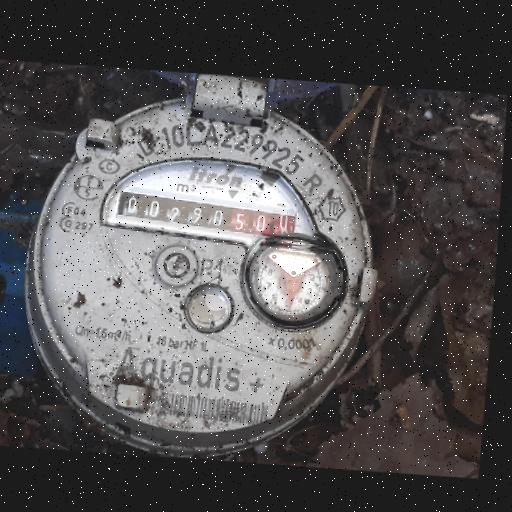0: (273, 213, 295, 236), (251, 211, 271, 236), (123, 194, 143, 218), (209, 205, 228, 230), (145, 196, 164, 220)
2: (166, 199, 183, 225)
5: (230, 207, 250, 233)
9: (186, 201, 205, 226)
border_water_meter_number: (112, 184, 303, 246)
